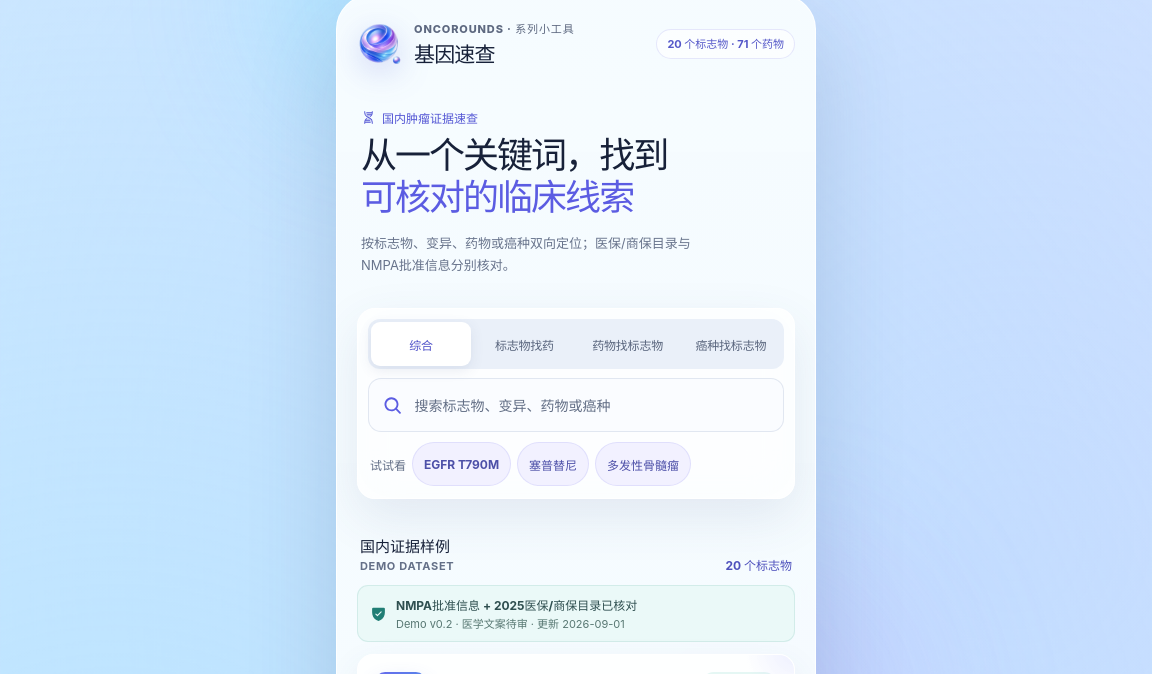
Scenario: Gene lookup app › shows an empty state and can reset it
The width and height of the screenshot is (1152, 674).
Later steps or results of the test are not shown.
Step 1. Type "不存在的记录" into the field labelled "搜索" → (591, 405), box [412, 396, 769, 414]
(page scrolled)
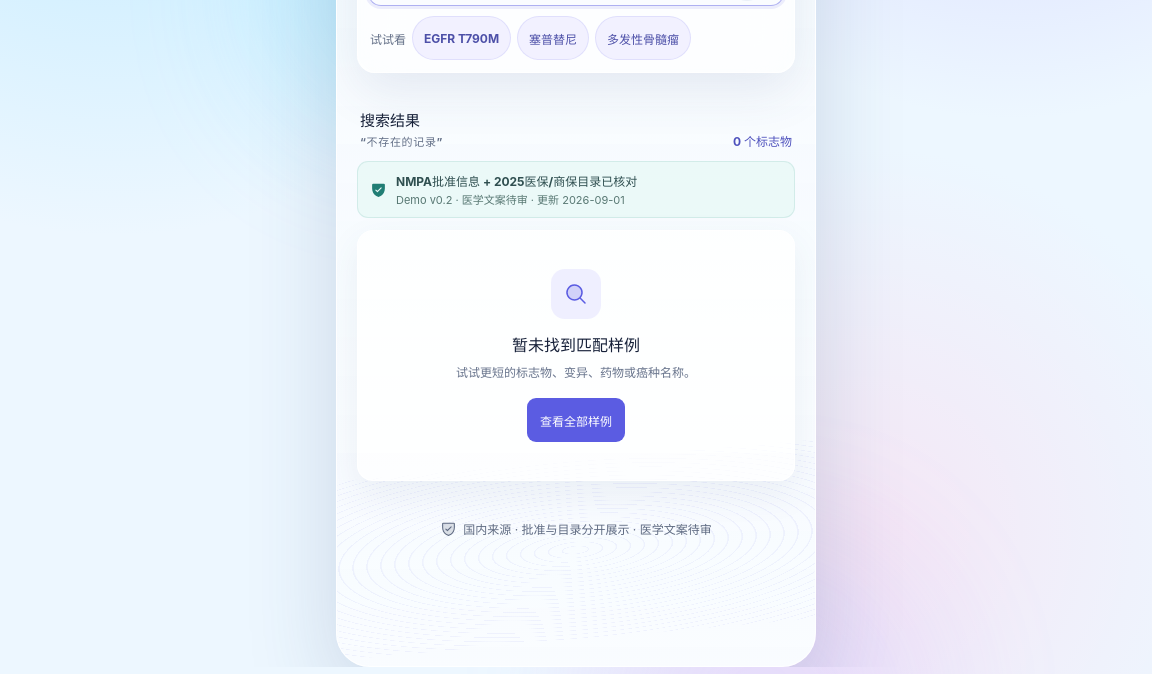
Now the heading "暂未找到匹配样例" is shown, box [512, 335, 640, 355]
